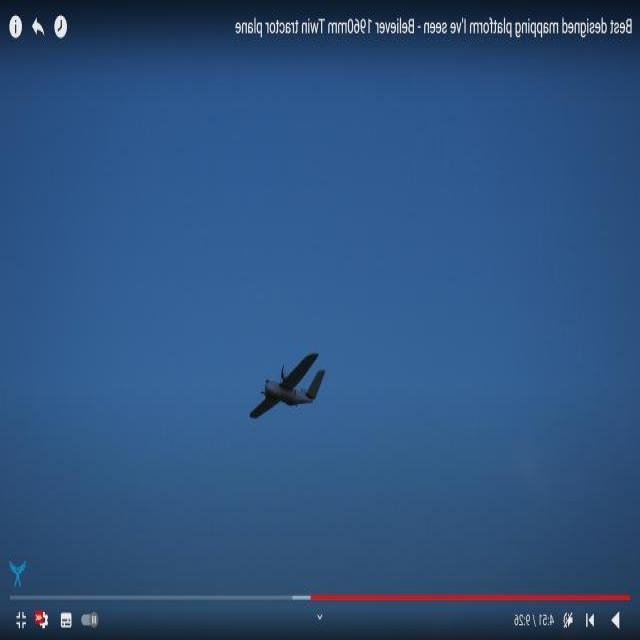UAV: (244, 338, 332, 431)
